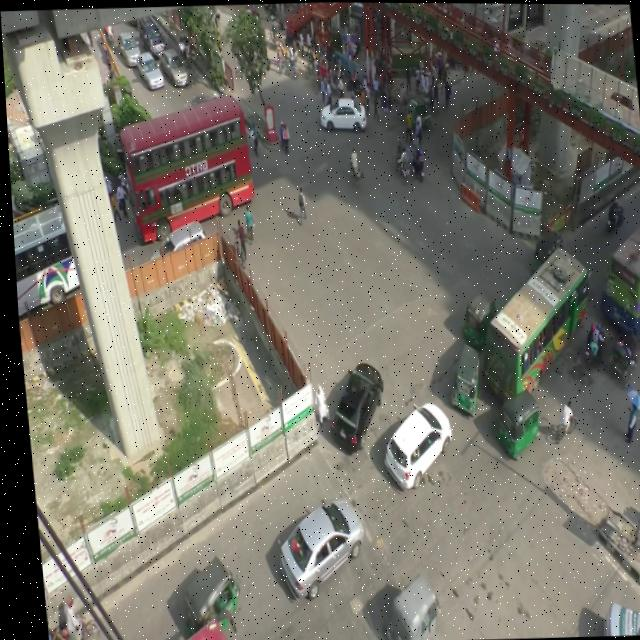cng: (165, 554, 237, 640), (484, 385, 542, 458), (451, 289, 501, 352), (440, 344, 482, 413), (401, 91, 431, 132)
rikshaw: (604, 333, 634, 386), (385, 143, 416, 183), (311, 56, 330, 91), (276, 50, 298, 78), (324, 63, 343, 92), (265, 19, 281, 51)
